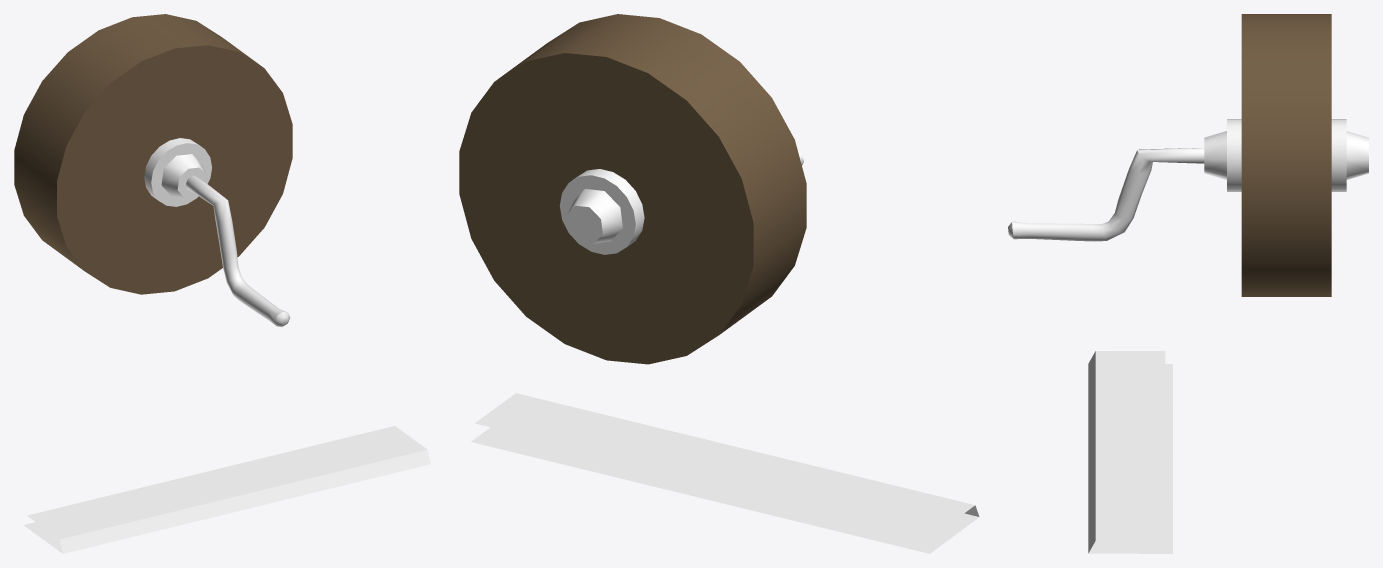
Rendered from whetstone_wheel.glb.
3 views of the same model, side by side, from view 1: azimuth 30°, elevation 25°; view 2: azimuth 150°, elevation 25°; view 3: azimuth 270°, elevation 25° (orthographic). The views are drawn at different scales.
Visible parts, largest first — view 1: Whetstone.001; view 2: Whetstone.001; view 3: Whetstone.001.
Boxes of the visible parts, <box> form: Whetstone.001: <box>14,14,430,553</box>; Whetstone.001: <box>459,14,979,553</box>; Whetstone.001: <box>1008,14,1368,553</box>.
Size of the model in its own units: 0.944 by 1 by 0.7568.
